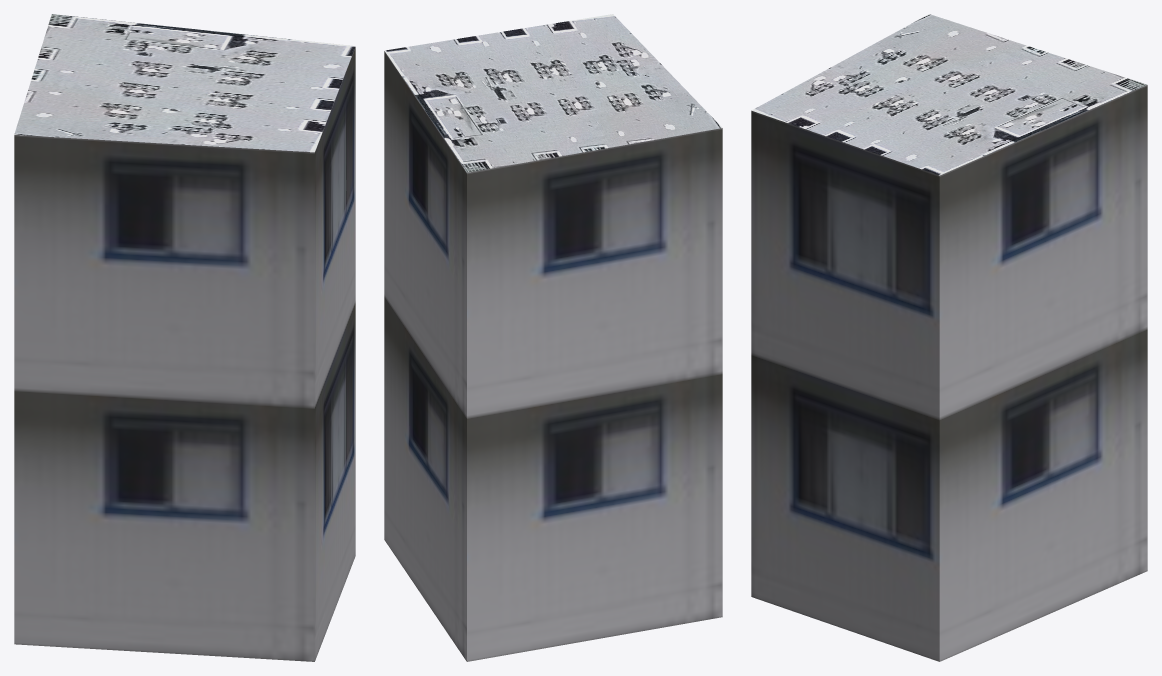
File: ResTex__1328.fbx
3 renders of one model, left to right at view 1: azimuth 30°, elevation 25°; view 2: azimuth 150°, elevation 25°; view 3: azimuth 270°, elevation 25°, orthographic. The views are drawn at different scales.
Visible parts, largest first — view 1: CityEngineMaterial_9_m, CityEngineMaterial_8_m; view 2: CityEngineMaterial_9_m, CityEngineMaterial_8_m; view 3: CityEngineMaterial_9_m, CityEngineMaterial_8_m.
Boxes of the visible parts, left/top/right/bottom form: CityEngineMaterial_9_m: left=14, top=47, right=355, bottom=661; CityEngineMaterial_8_m: left=14, top=14, right=355, bottom=152; CityEngineMaterial_9_m: left=384, top=51, right=722, bottom=661; CityEngineMaterial_8_m: left=384, top=14, right=722, bottom=172; CityEngineMaterial_9_m: left=751, top=85, right=1147, bottom=661; CityEngineMaterial_8_m: left=752, top=14, right=1147, bottom=175.
Bounding box in the file's own units: 4.28 × 6 × 4.43.
2 materials, 2 textured.
